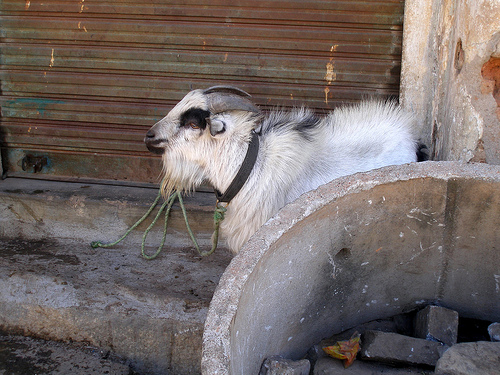goat: (144, 84, 419, 259)
